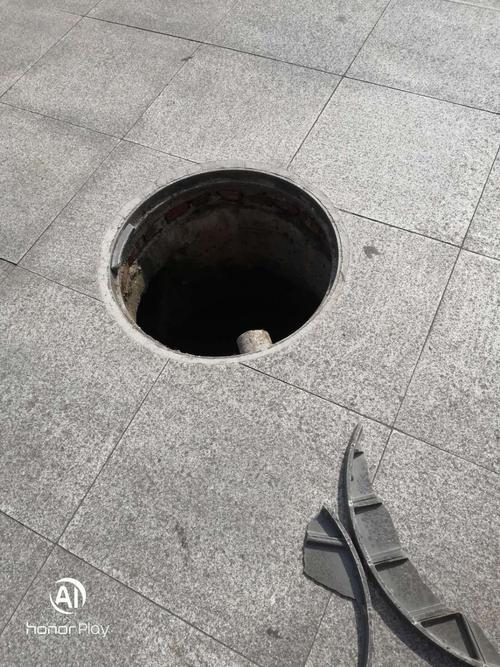lose: (99, 154, 365, 378)
